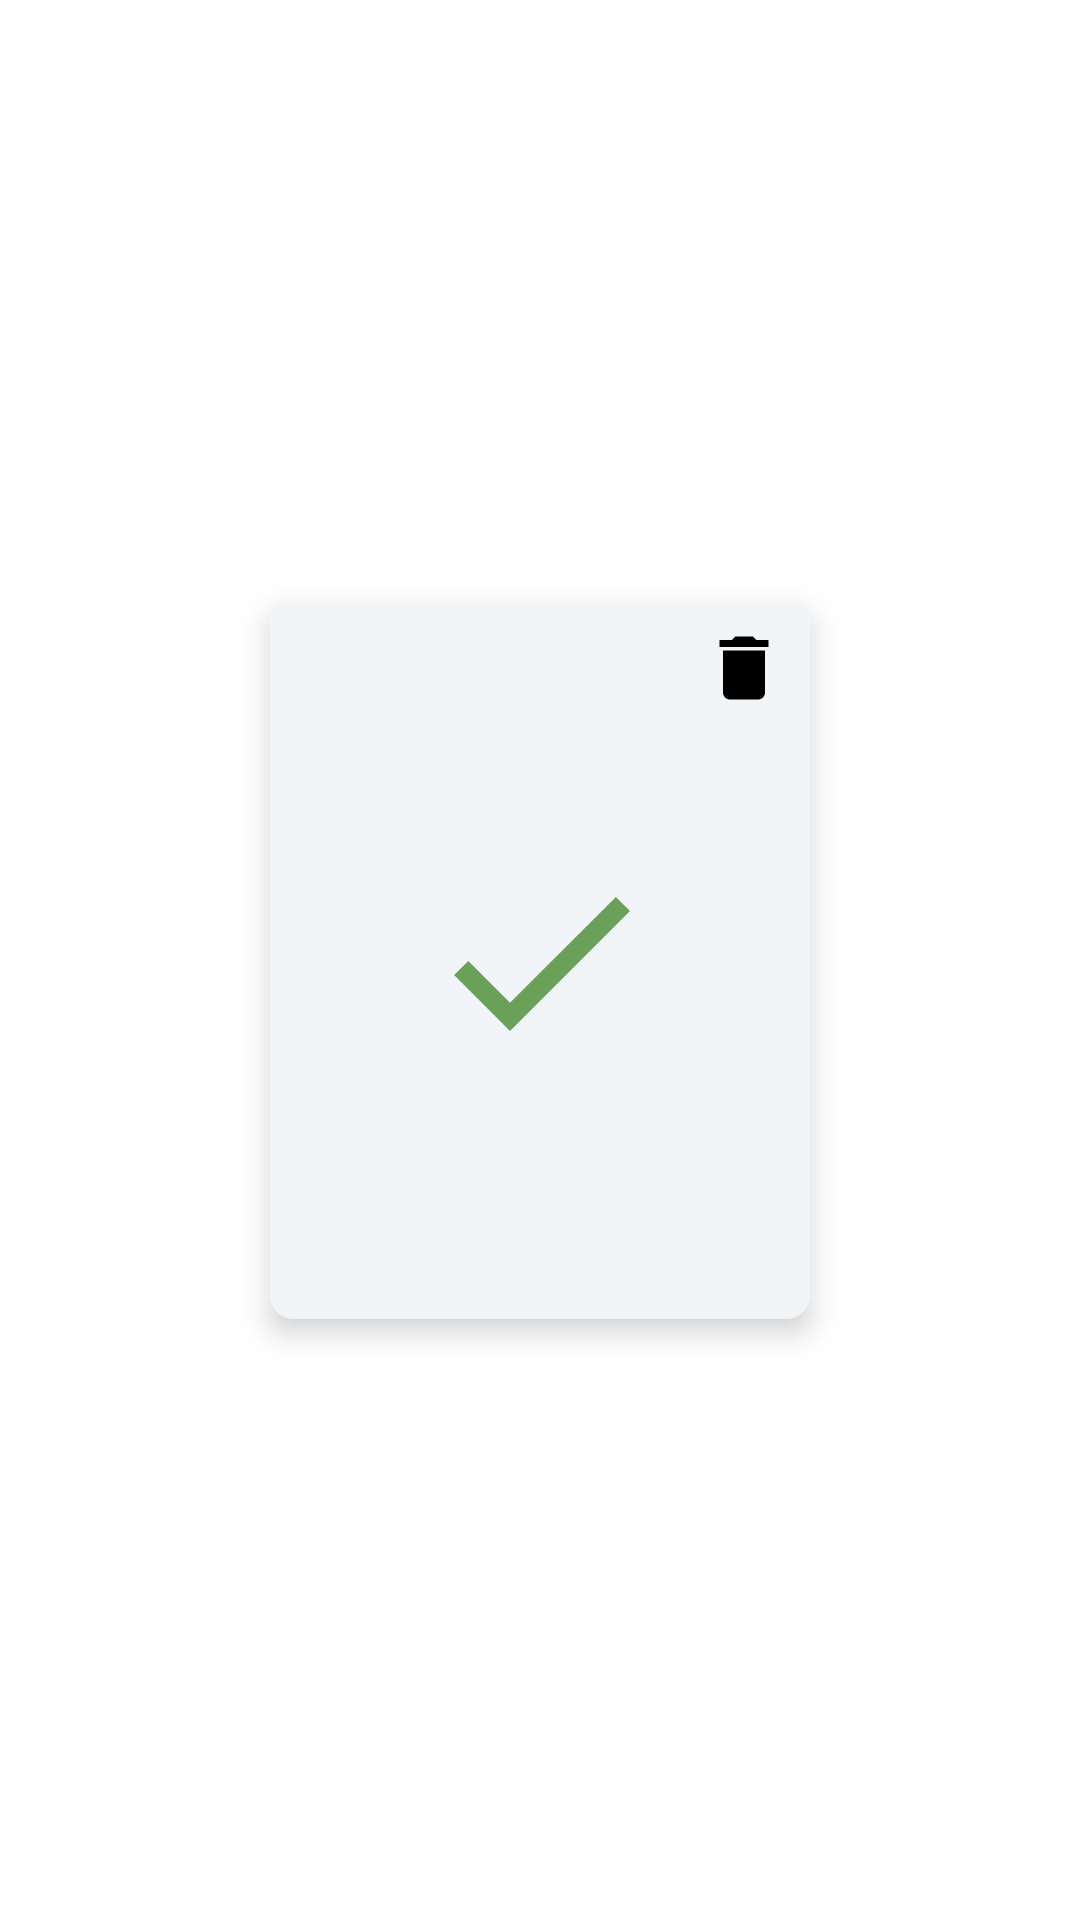

Icon bounding boxes for this 1080w x 1920h phone screenshot, format (x1,y1,x2,y2):
check product: (454,897,630,1031)
delete product: (719,636,769,700)
